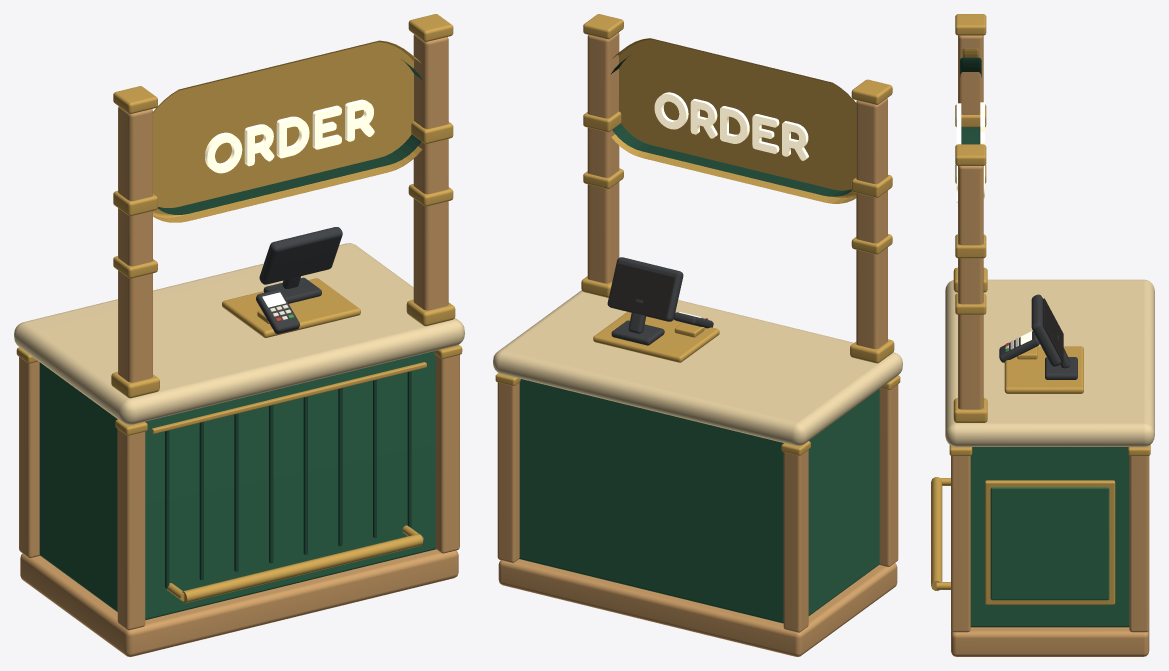
The model's file is order_desk_tier2.glb.
The picture shows the model from 3 angles, left to right: view 1: azimuth 30°, elevation 25°; view 2: azimuth 150°, elevation 25°; view 3: azimuth 270°, elevation 25°; orthographic projection. The views are drawn at different scales.
Parts seen in each view (by area): view 1: Body, Top, SignBorder, Plinth, ArchPost1, ArchPost-1, Pilaster-1-1, Pilaster1-1, SignText0, Pilaster-11, FootRail, Monitor (+18 smaller); view 2: Body, Top, SignBorder, Plinth, ArchPost-1, ArchPost1, Pilaster-11, Pilaster11, SignText1, Pilaster-1-1, MonitorGlass, TillBase (+6 smaller); view 3: Top, EndInset, Body, ArchPost1, Plinth, Pilaster11, Pilaster1-1, EndFrame, TillBase, ArchPost-1, FootRail, Monitor (+10 smaller).
Part boxes in pixels (box(x1,y1,x2,y2)): Body: box(39, 351, 435, 619); Top: box(14, 243, 464, 424); SignBorder: box(153, 40, 422, 222); Plinth: box(20, 549, 458, 656); ArchPost1: box(413, 34, 448, 310); ArchPost-1: box(118, 106, 152, 382); Pilaster-1-1: box(117, 424, 145, 630); Pilaster1-1: box(435, 355, 459, 553); SignText0: box(205, 99, 374, 173); Pilaster-11: box(19, 357, 39, 557); FootRail: box(182, 533, 422, 603); Monitor: box(259, 227, 342, 284); Body: box(519, 379, 879, 623); Top: box(493, 290, 902, 445); SignBorder: box(611, 38, 856, 203); Plinth: box(498, 559, 897, 656); ArchPost-1: box(856, 98, 887, 349); ArchPost1: box(587, 32, 619, 283); Pilaster-11: box(783, 445, 808, 632); Pilaster11: box(497, 382, 519, 562); SignText1: box(654, 92, 808, 160); Pilaster-1-1: box(879, 384, 898, 566); MonitorGlass: box(608, 263, 675, 320); TillBase: box(593, 312, 719, 362); Top: box(945, 279, 1154, 446); EndInset: box(990, 487, 1109, 600); Body: box(970, 447, 1129, 627); ArchPost1: box(958, 166, 983, 409); Plinth: box(951, 627, 1149, 656); Pilaster11: box(1129, 446, 1149, 632); Pilaster1-1: box(951, 446, 970, 632); EndFrame: box(985, 480, 1115, 604); TillBase: box(1004, 346, 1083, 393); ArchPost-1: box(958, 35, 983, 114); FootRail: box(931, 477, 942, 590); Monitor: box(1031, 294, 1061, 366).
Size of the model in its own units: 1.27 by 1.95 by 0.79.
